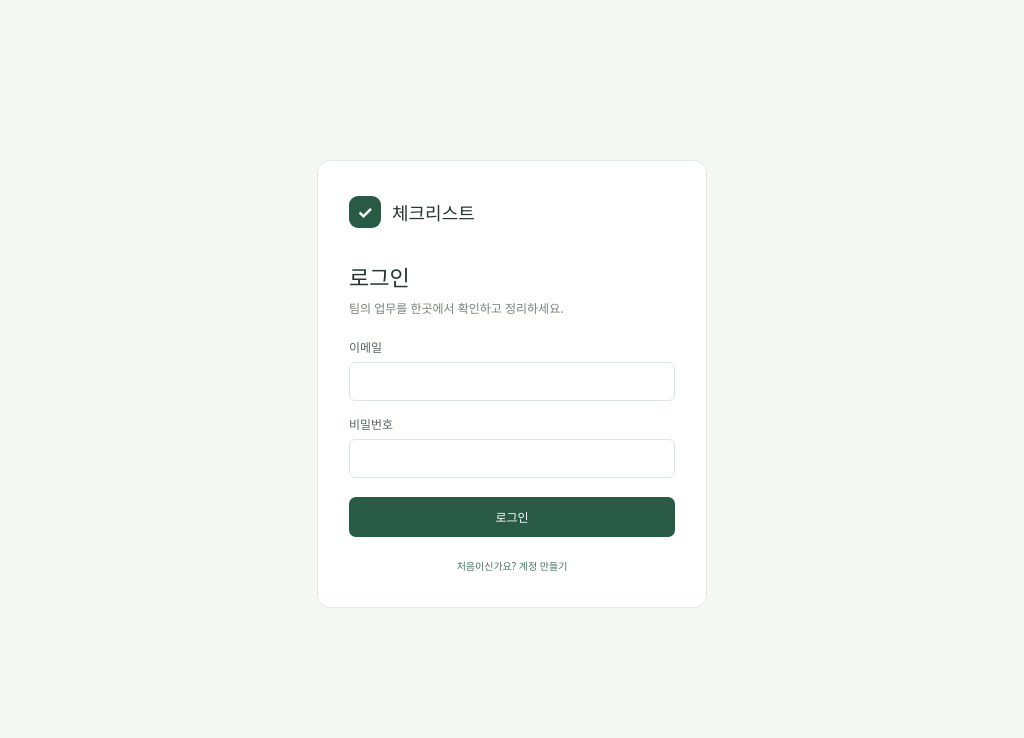
체크리스트 사용자 흐름 › 처음에는 3단계를 펼치고 자식이 있는 항목에만 접기 버튼을 표시한다
Type "minji@example.com" into the field labelled "이메일".
click(512, 382); type("minji@example.com")  # box top-left (349, 362), bottom-right (675, 401)
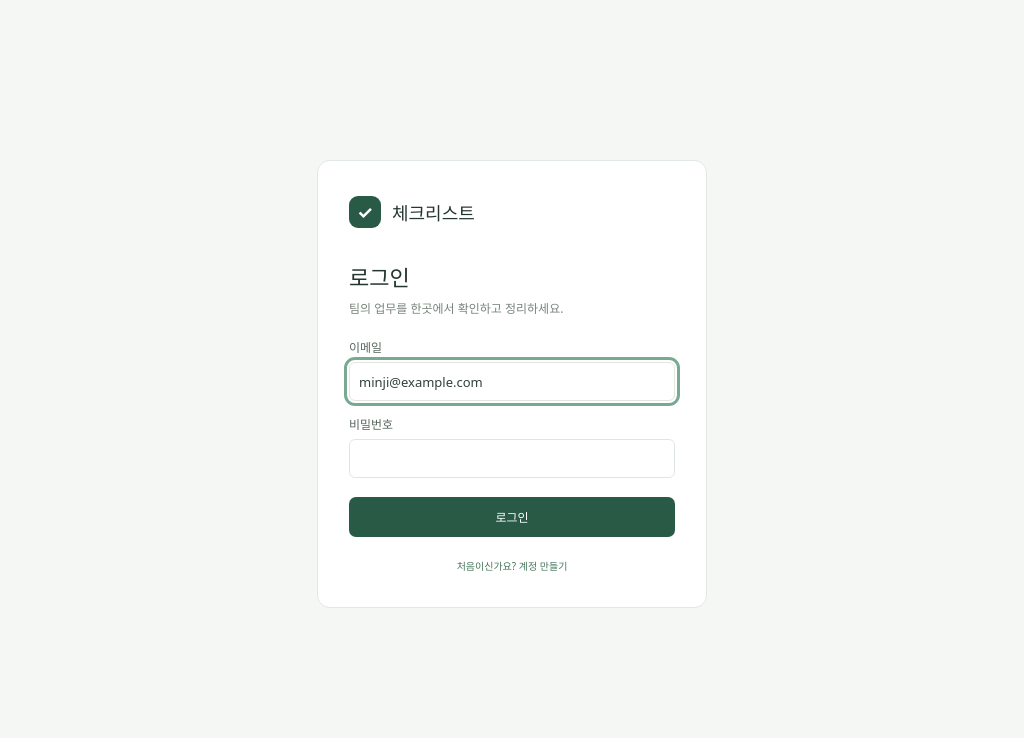
Type "secure-pass-1" into the password field labelled "비밀번호".
click(512, 458); type("secure-pass-1")  # box top-left (349, 439), bottom-right (675, 478)
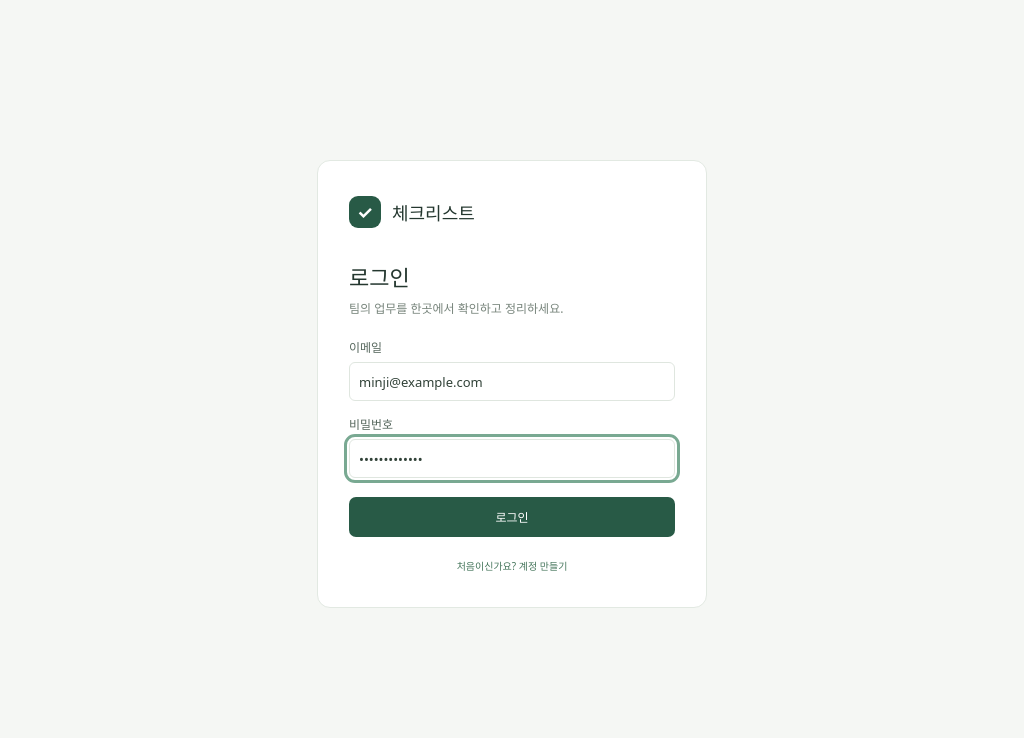
Click the button "로그인".
click(512, 517)  # box top-left (349, 497), bottom-right (675, 537)
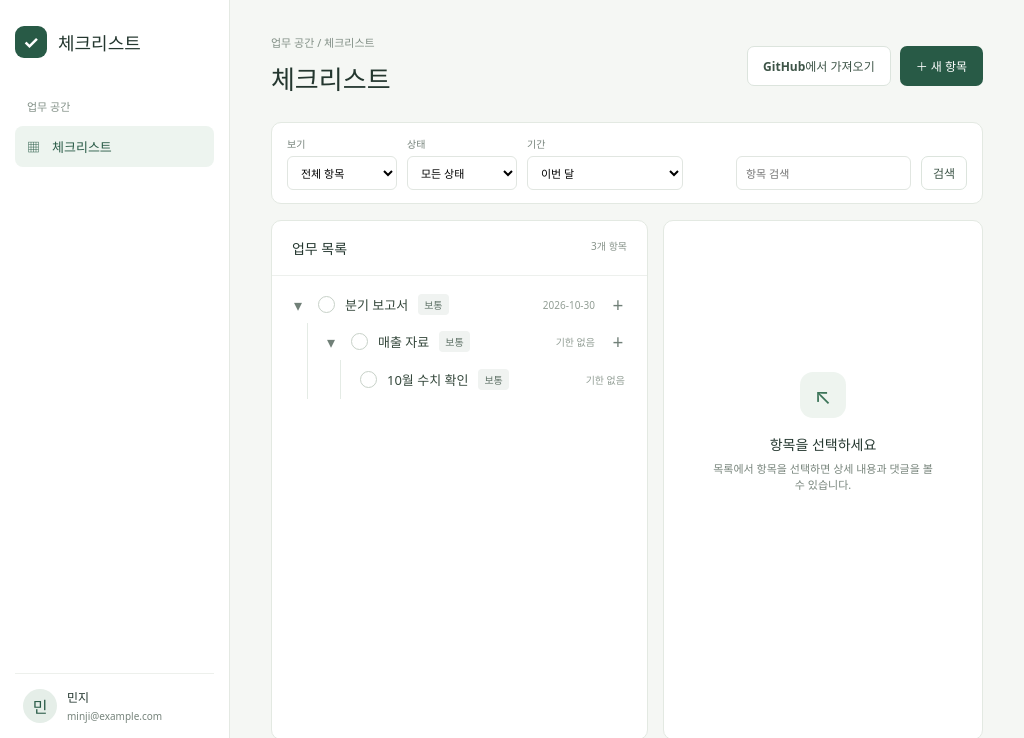
Check: the button "분기 보고서 보통 2026-10-30" is shown, box top-left (310, 286), bottom-right (603, 323)
Check: the button "10월 수치 확인 보통 기한 없음" is shown, box top-left (352, 361), bottom-right (633, 398)
